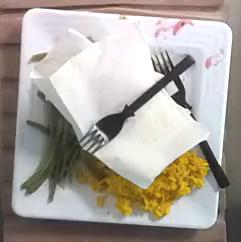green_beans: (20, 91, 81, 203)
rice: (93, 152, 209, 218)
